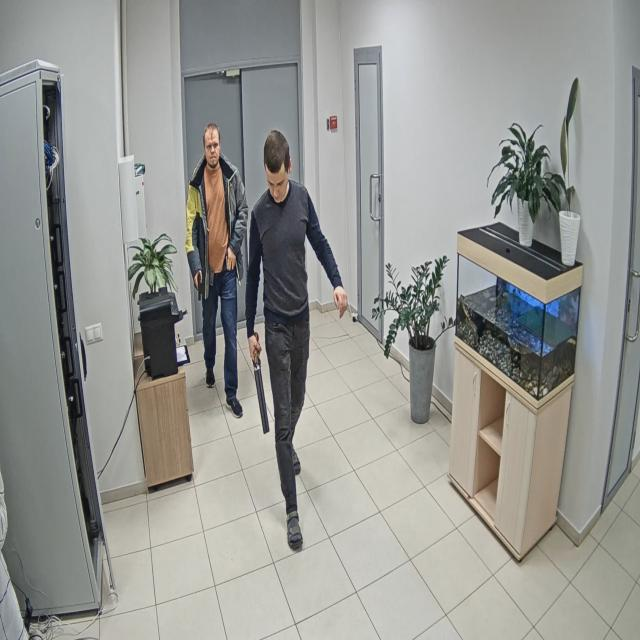-Gun: (253, 333, 269, 434), (198, 272, 201, 301)
